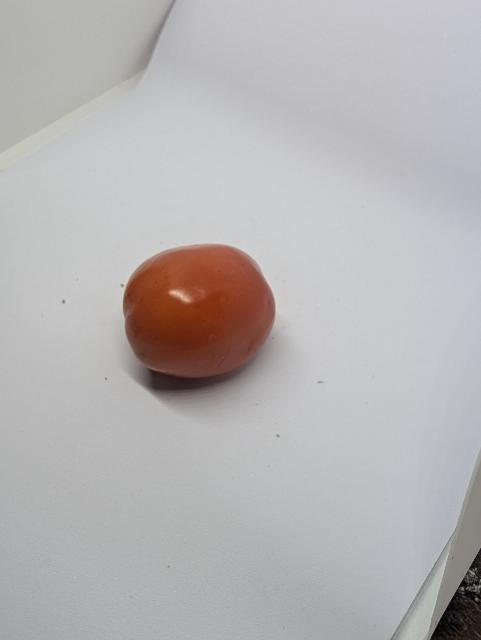red: (121, 240, 278, 385)
